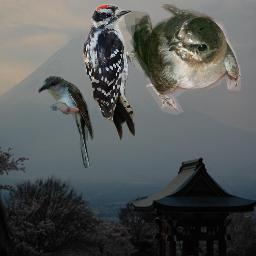Cuckoo: (38, 76, 94, 168)
Swallow: (117, 4, 241, 116)
Woodpecker: (81, 4, 135, 140)
